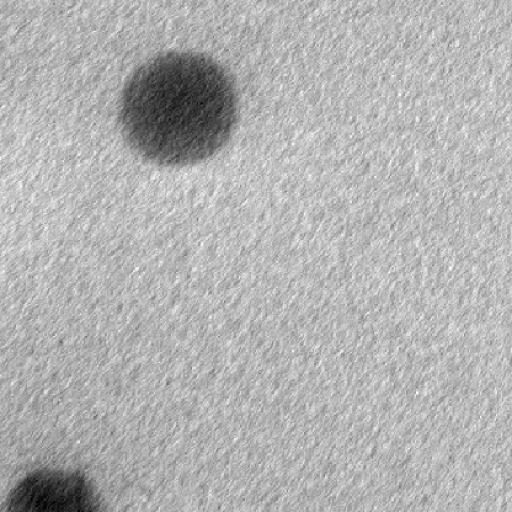Nanoparticles: (116, 46, 244, 171), (3, 461, 111, 510)
